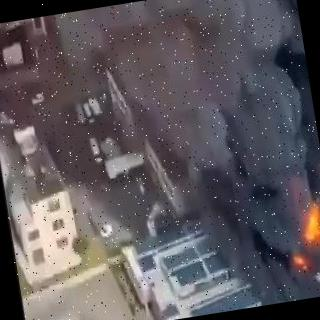smoke: (28, 0, 320, 216)
